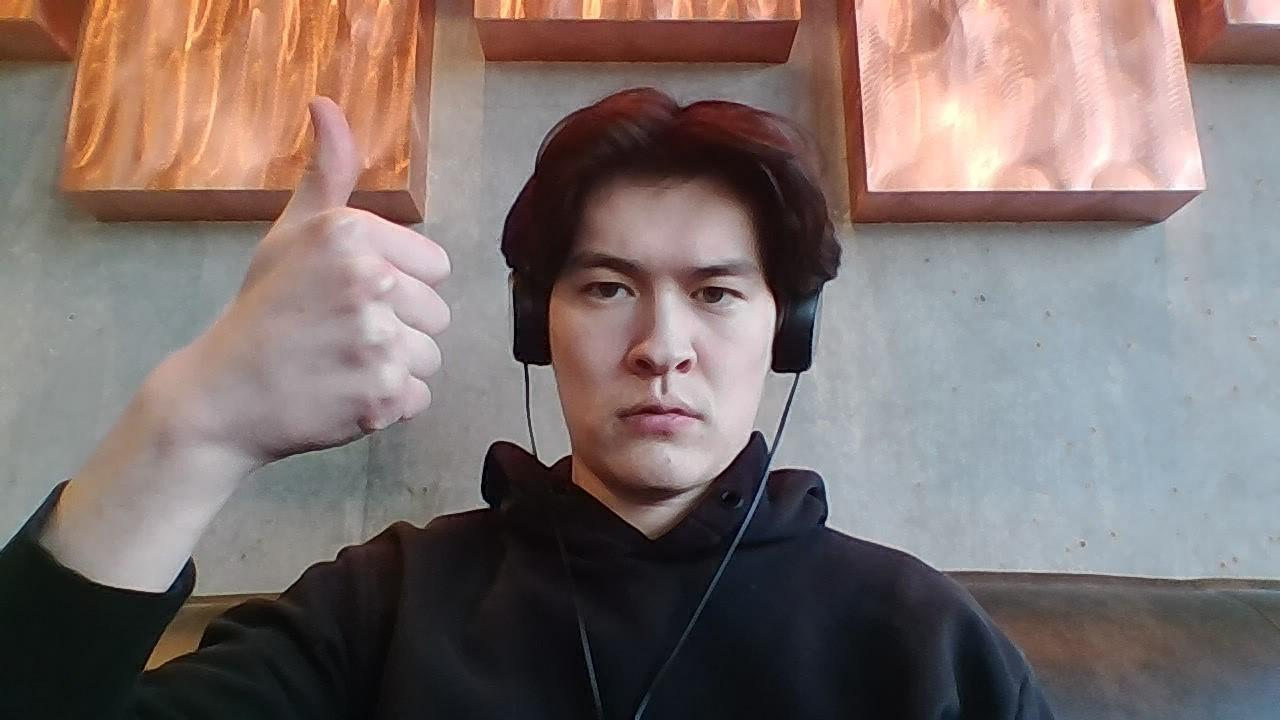thumbsUp: (211, 96, 451, 459)
